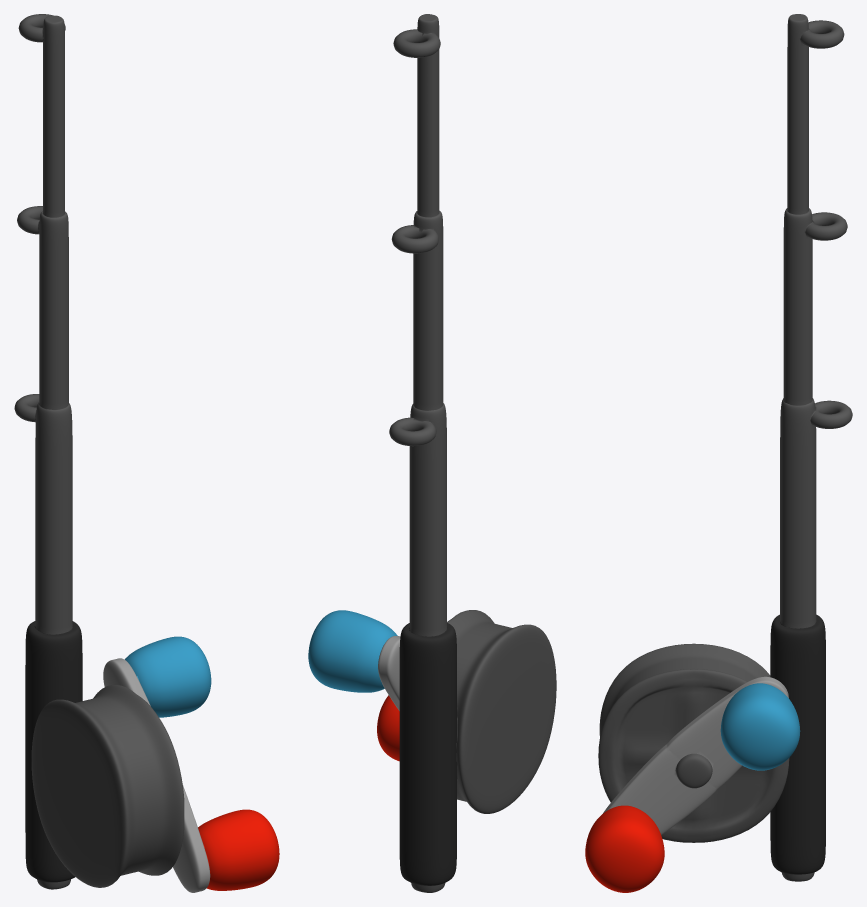
Rendered from reelrod.glb.
The picture shows the model from 3 angles, left to right: view 1: azimuth 30°, elevation 25°; view 2: azimuth 150°, elevation 25°; view 3: azimuth 270°, elevation 25°; orthographic projection.
Visible parts, largest first — view 1: fishingrod; view 2: fishingrod; view 3: fishingrod.
Boxes of the visible parts, x1,y1,x2,y2 form: fishingrod: [14, 14, 279, 892]; fishingrod: [308, 14, 556, 892]; fishingrod: [585, 14, 852, 892].
Bounding box in the file's own units: 0.7188 × 3.72 × 1.05.
